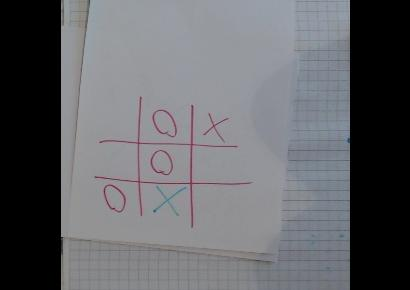O: (98, 183, 131, 217), (148, 105, 178, 139), (147, 148, 176, 178)
X: (148, 186, 180, 220), (202, 112, 229, 142)
grid: (91, 99, 242, 222)
